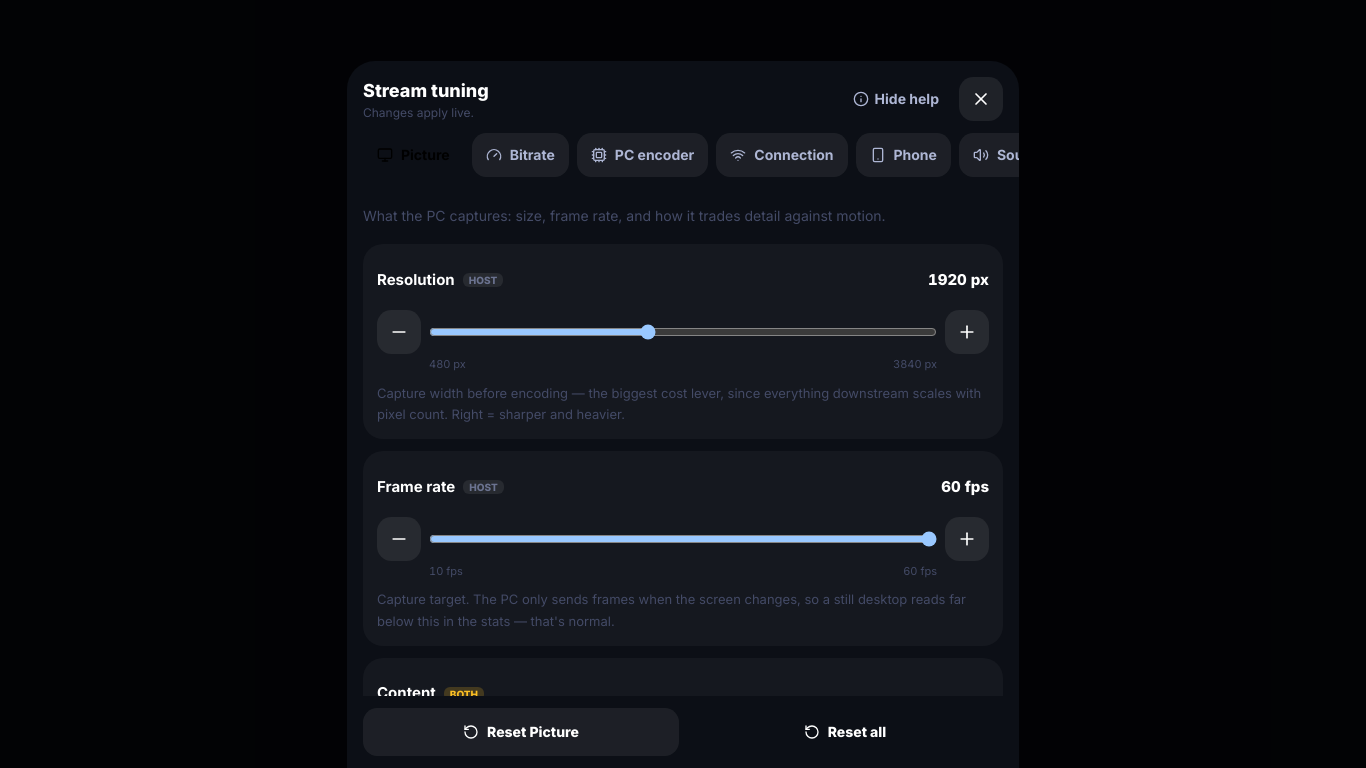
Test: TuneSheet › switches tabs and shows only that group's knobs
Step 1. Click the tab "Sound" → (1007,156), box left=959, top=134, right=1055, bottom=178
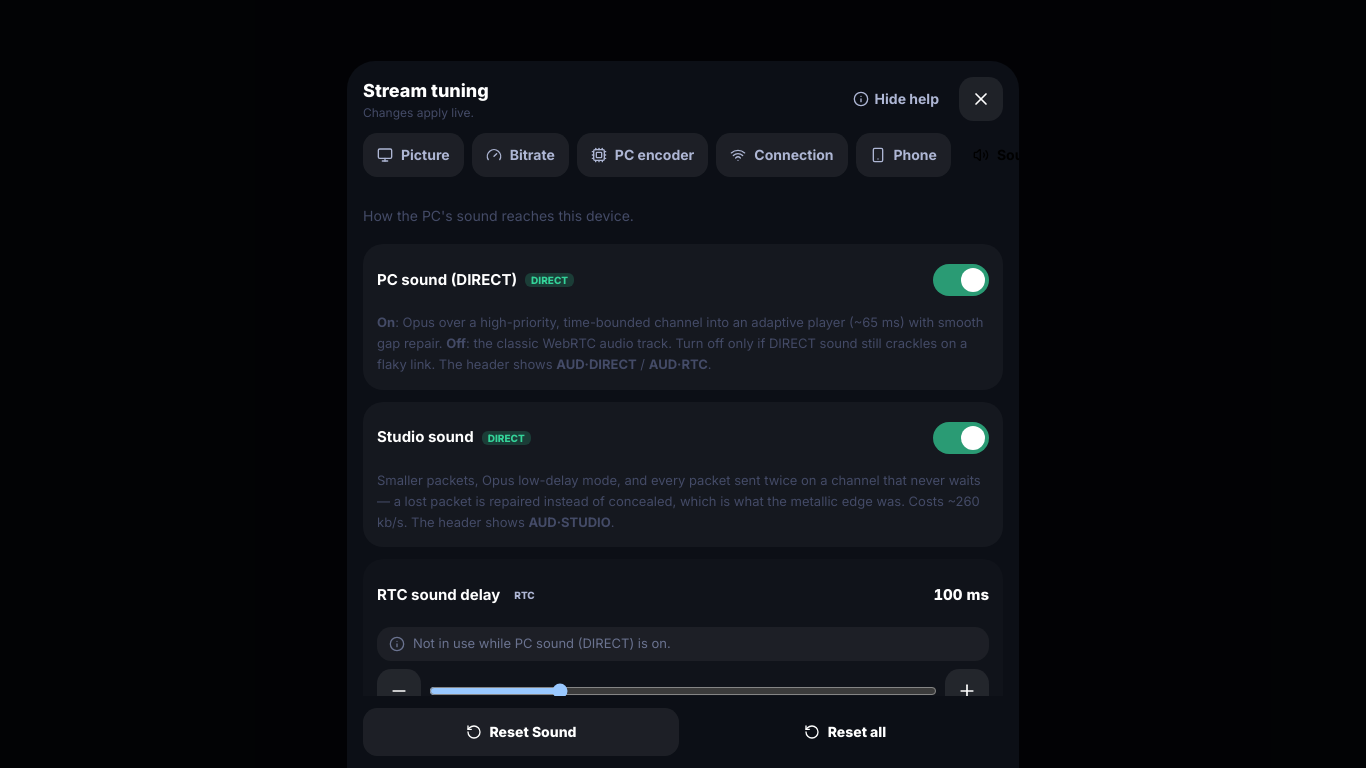
Now the element "Studio sound" is shown, box left=363, top=402, right=1003, bottom=547
Now the text "Resolution" is gone
